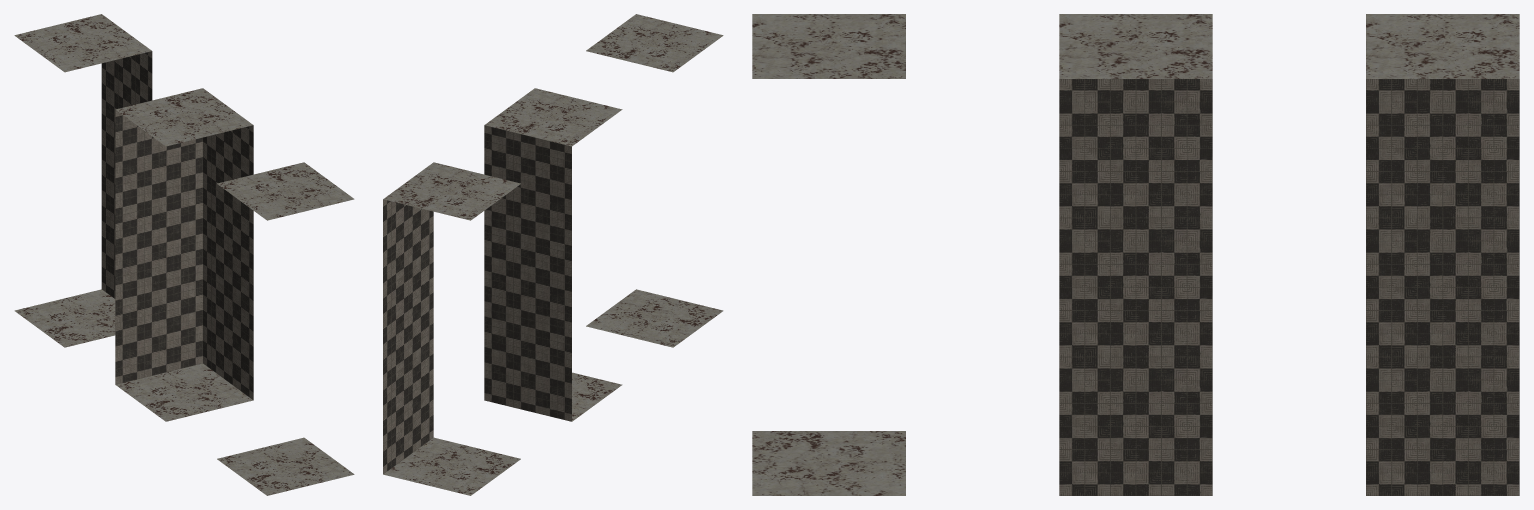
The model's file is scianki.glb.
The picture shows the model from 3 angles, left to right: view 1: azimuth 30°, elevation 25°; view 2: azimuth 150°, elevation 25°; view 3: azimuth 270°, elevation 25°; orthographic projection. The views are drawn at different scales.
Parts seen in each view (by area): view 1: Plane1-col, Plane-col, Plane2-col; view 2: Plane1-col, Plane-col, Plane2-col; view 3: Plane-col, Plane1-col, Plane2-col.
Boxes of the visible parts, <box> form: Plane1-col: <box>115,88,253,421</box>; Plane-col: <box>14,14,152,347</box>; Plane2-col: <box>217,162,354,495</box>; Plane1-col: <box>484,88,622,421</box>; Plane-col: <box>383,162,520,495</box>; Plane2-col: <box>586,14,723,347</box>; Plane-col: <box>1366,14,1519,495</box>; Plane1-col: <box>1059,14,1212,495</box>; Plane2-col: <box>752,14,905,495</box>.
Size of the model in its own units: 1 by 3 by 5.
1 material, 1 textured.
